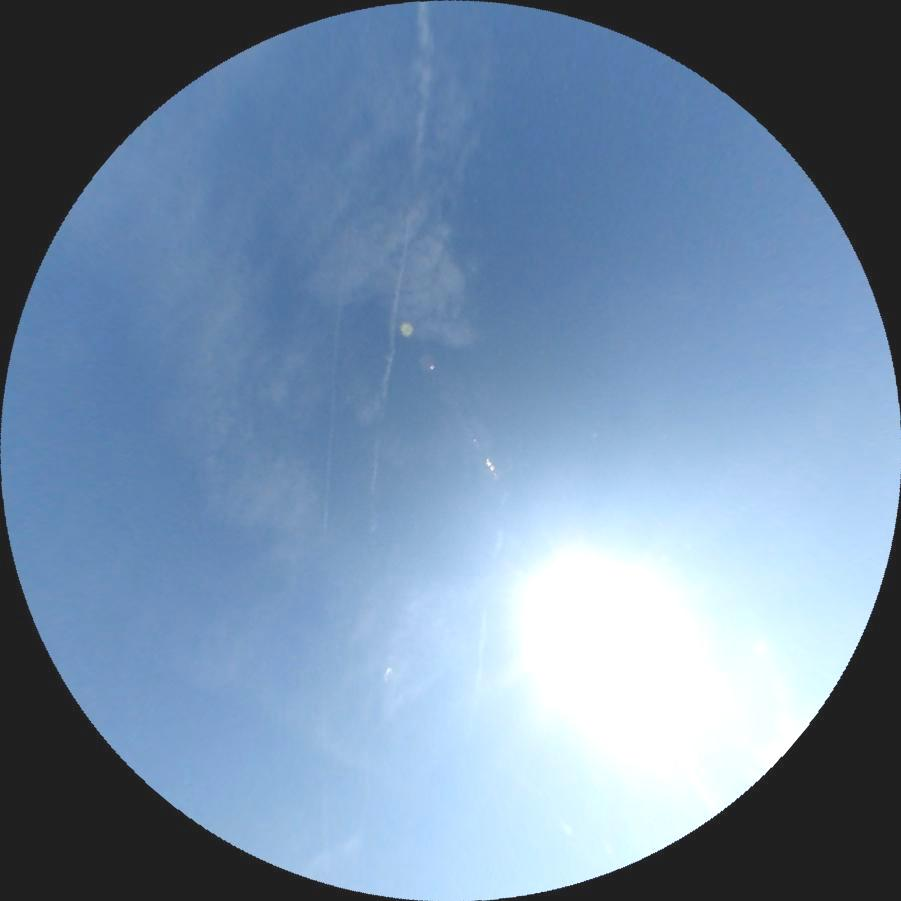contrail old: (319, 229, 350, 524), (472, 602, 488, 717)
contrail veryold: (353, 0, 439, 533)
contrail young: (325, 717, 329, 861)
parasite: (633, 688, 720, 814)
sun: (521, 561, 675, 710)
